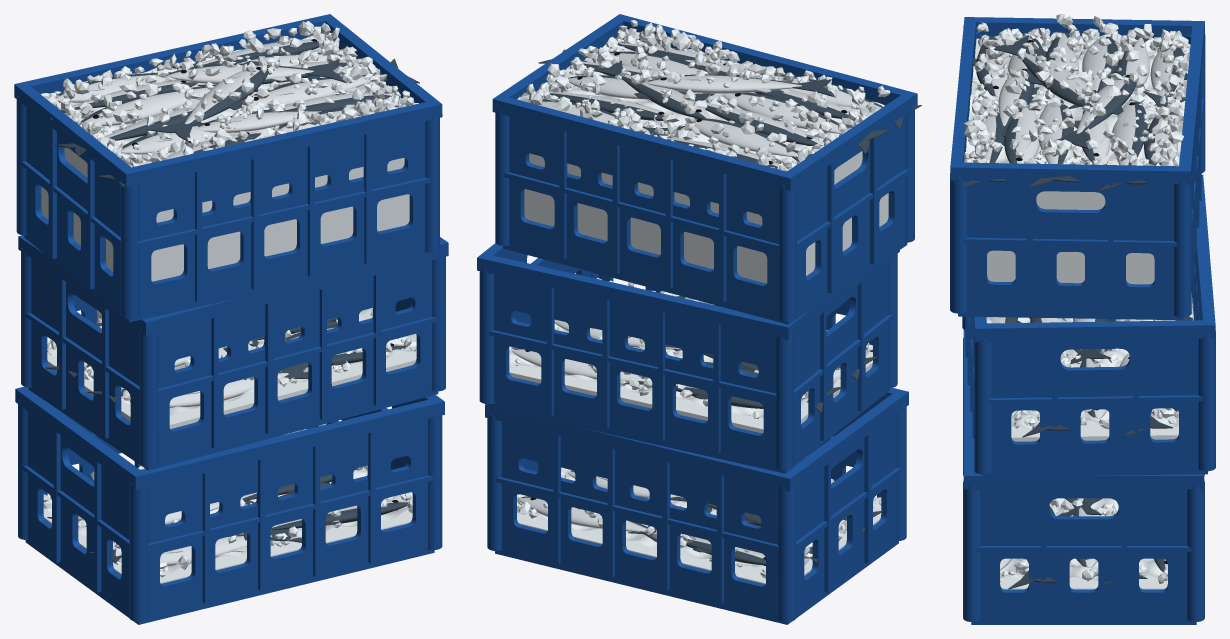
File: tumpukan peti.glb
3 renders of one model, left to right at view 1: azimuth 30°, elevation 25°; view 2: azimuth 150°, elevation 25°; view 3: azimuth 270°, elevation 25°, orthographic.
Parts seen in each view (by area): view 1: crate_top_wall_front, crate_bottom_wall_front, crate_middle_wall_front, crate_top_ice_chunks, crate_top, crate_bottom, crate_middle, crate_middle_wall_left, crate_bottom_wall_left, crate_top_wall_left, crate_top_ice_fill, crate_top_rim_front (+36 smaller); view 2: crate_middle_wall_back, crate_bottom_wall_back, crate_top_wall_back, crate_top_ice_chunks, crate_top, crate_bottom, crate_middle, crate_top_wall_left, crate_bottom_wall_left, crate_middle_wall_left, crate_top_ice_fill, crate_middle_rim_back (+34 smaller); view 3: crate_bottom_wall_right, crate_middle_wall_right, crate_top_wall_right, crate_top_ice_chunks, crate_top, crate_middle, crate_bottom, crate_middle_rim_right, crate_top_ice_fill, crate_top_rim_right, crate_bottom_rim_right, crate_top_rim_left (+33 smaller).
Part boxes in pixels (left/top/right/bottom): crate_top_wall_front: left=139, top=121, right=425, bottom=313; crate_bottom_wall_front: left=148, top=419, right=427, bottom=616; crate_middle_wall_front: left=158, top=260, right=431, bottom=461; crate_top_ice_chunks: left=41, top=21, right=418, bottom=167; crate_top: left=16, top=96, right=439, bottom=319; crate_bottom: left=18, top=400, right=442, bottom=621; crate_middle: left=21, top=248, right=445, bottom=467; crate_middle_wall_left: left=31, top=258, right=139, bottom=459; crate_bottom_wall_left: left=27, top=411, right=129, bottom=613; crate_top_wall_left: left=26, top=107, right=120, bottom=309; crate_top_ice_fill: left=41, top=147, right=409, bottom=281; crate_top_rim_front: left=120, top=99, right=442, bottom=187; crate_middle_wall_back: left=494, top=274, right=775, bottom=465; crate_bottom_wall_back: left=501, top=421, right=777, bottom=616; crate_top_wall_back: left=509, top=116, right=778, bottom=315; crate_top_ice_chunks: left=517, top=20, right=890, bottom=171; crate_top: left=495, top=105, right=914, bottom=321; crate_bottom: left=487, top=403, right=906, bottom=621; crate_middle: left=479, top=252, right=897, bottom=470; crate_top_wall_left: left=797, top=115, right=904, bottom=313; crate_bottom_wall_left: left=796, top=414, right=896, bottom=613; crate_middle_wall_left: left=794, top=261, right=887, bottom=461; crate_top_ice_fill: left=524, top=151, right=888, bottom=283; crate_middle_rim_back: left=477, top=253, right=793, bottom=340; crate_bottom_wall_right: left=980, top=489, right=1187, bottom=618; crate_middle_wall_right: left=992, top=338, right=1198, bottom=471; crate_top_wall_right: left=967, top=181, right=1173, bottom=313; crate_top_ice_chunks: left=963, top=14, right=1189, bottom=165; crate_top: left=950, top=31, right=1205, bottom=317; crate_middle: left=962, top=281, right=1215, bottom=474; crate_bottom: left=963, top=338, right=1204, bottom=621; crate_middle_rim_right: left=987, top=320, right=1203, bottom=341; crate_top_ice_fill: left=987, top=191, right=1154, bottom=284; crate_top_rim_right: left=962, top=162, right=1178, bottom=184; crate_bottom_rim_right: left=975, top=473, right=1192, bottom=489; crate_top_rim_left: left=976, top=17, right=1192, bottom=38.
Bounding box in the file's own units: 0.6899 × 0.9119 × 0.4597.
